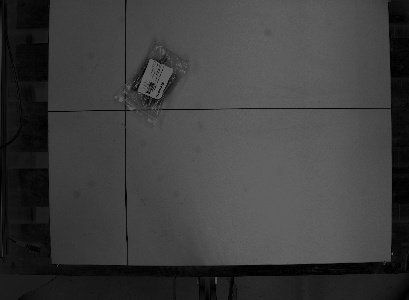t2: (110, 35, 196, 126)
